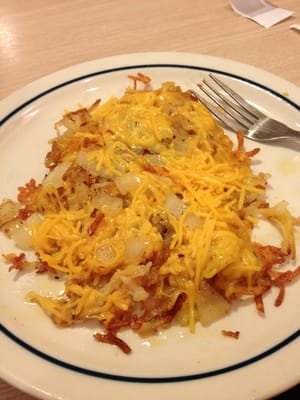burger: (191, 73, 300, 157)
